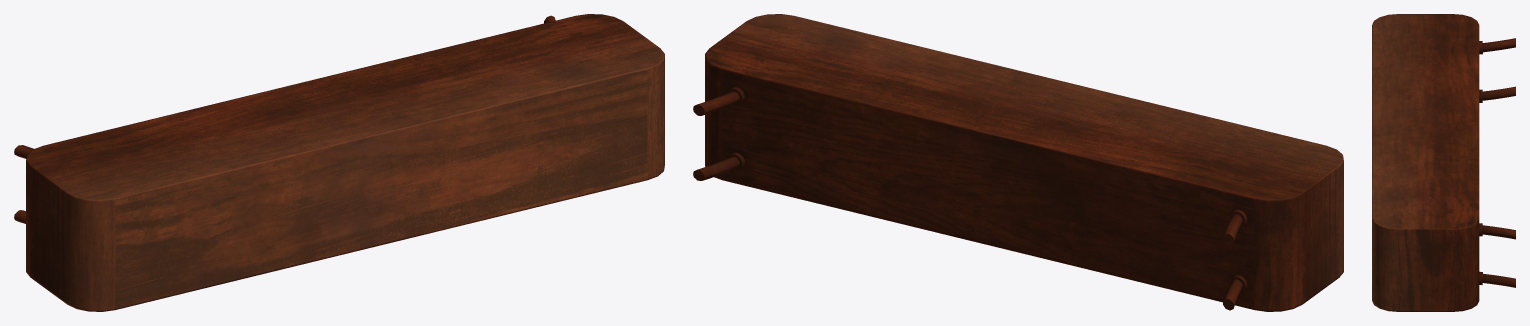
Rendered from tv_cabinet.fbx.
The picture shows the model from 3 angles, left to right: view 1: azimuth 30°, elevation 25°; view 2: azimuth 150°, elevation 25°; view 3: azimuth 270°, elevation 25°; orthographic projection. The views are drawn at different scales.
Parts seen in each view (by area): view 1: Cube.001; view 2: Cube.001, NurbsCurve.005, NurbsCurve.003; view 3: Cube.001, NurbsCurve.005, NurbsCurve.003, NurbsCurve.006, NurbsCurve.004.
Boxes of the visible parts, x1=… form: Cube.001: x1=26, y1=14, x2=664, y2=311; Cube.001: x1=705, y1=14, x2=1343, y2=311; NurbsCurve.005: x1=693, y1=91, x2=739, y2=115; NurbsCurve.003: x1=693, y1=156, x2=739, y2=180; Cube.001: x1=1372, y1=14, x2=1479, y2=311; NurbsCurve.005: x1=1482, y1=225, x2=1515, y2=239; NurbsCurve.003: x1=1482, y1=274, x2=1515, y2=287; NurbsCurve.006: x1=1482, y1=38, x2=1515, y2=52; NurbsCurve.004: x1=1482, y1=86, x2=1515, y2=100.
Bounding box in the file's own units: 16.47 × 2.96 × 4.66.
1 material, 1 textured.
